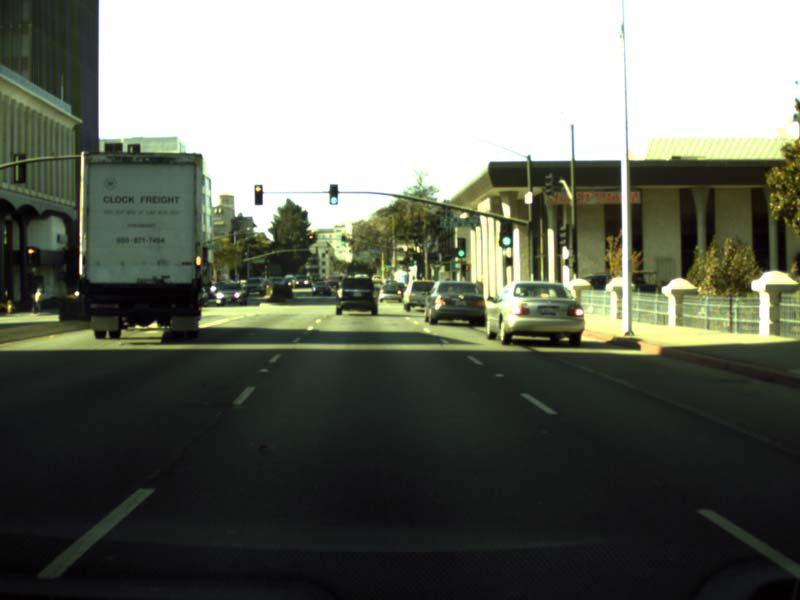Green: (500, 219, 512, 247), (456, 238, 466, 257), (329, 184, 338, 205), (341, 236, 346, 246), (353, 261, 357, 269)
Red: (253, 184, 263, 205), (27, 247, 37, 264), (307, 234, 314, 243)
